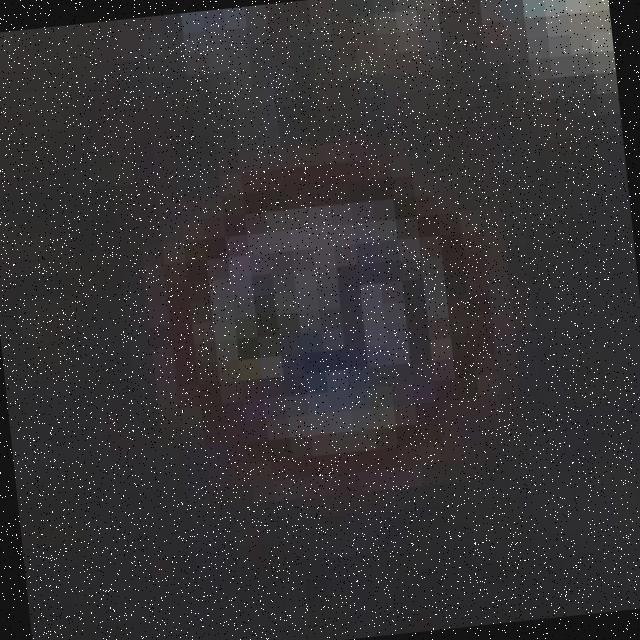Ograniczenie predkosci do 60: (55, 96, 600, 596)
